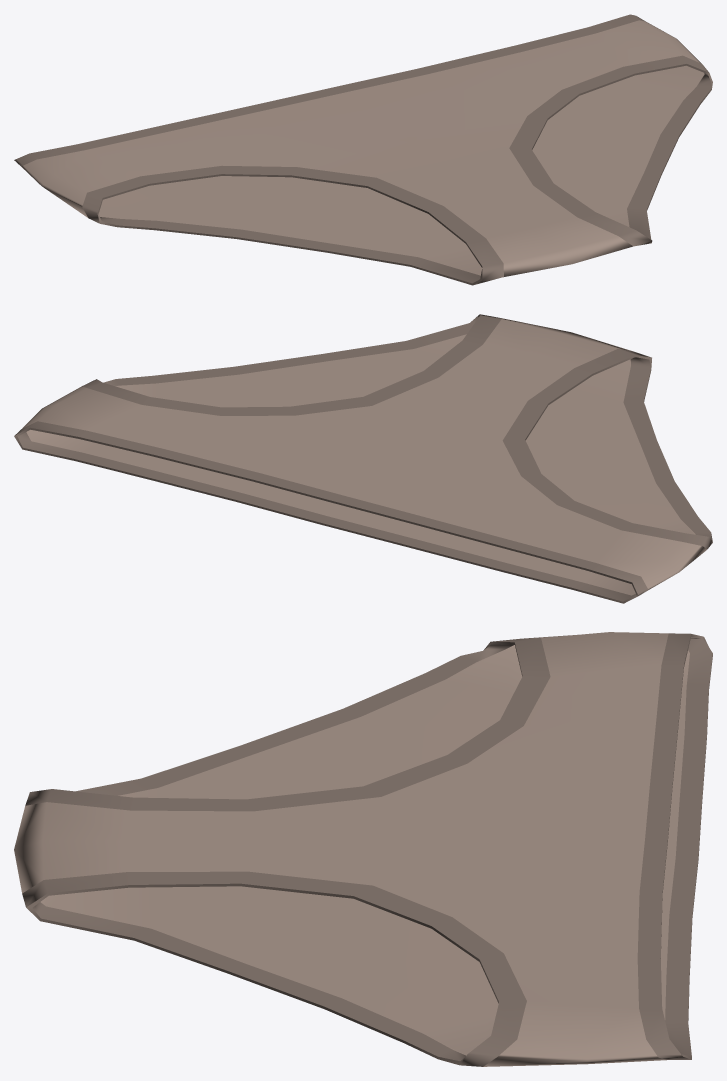
The model's file is culotte.obj.
The picture shows the model from 3 angles, top to bottom: view 1: azimuth 30°, elevation 25°; view 2: azimuth 150°, elevation 25°; view 3: azimuth 270°, elevation 25°; orthographic projection. The views are drawn at different scales.
Parts seen in each view (by area): view 1: Plane; view 2: Plane; view 3: Plane.
Boxes of the visible parts, x1=… form: Plane: x1=14, y1=14, x2=712, y2=285; Plane: x1=14, y1=314, x2=712, y2=603; Plane: x1=14, y1=632, x2=712, y2=1066.
Size of the model in its own units: 31.52 by 0.7288 by 21.71.
